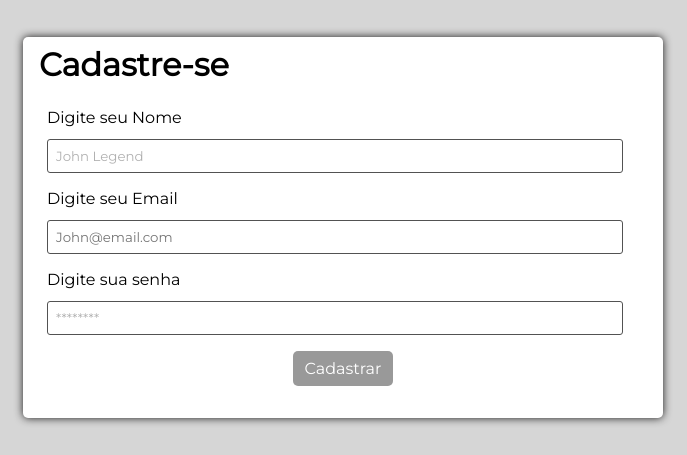
it: Check Login Screen › Check if typing on INPUTs an user already registred show some error
In the field with id "username": point(335, 156) [47, 139, 623, 173], type "Admin"
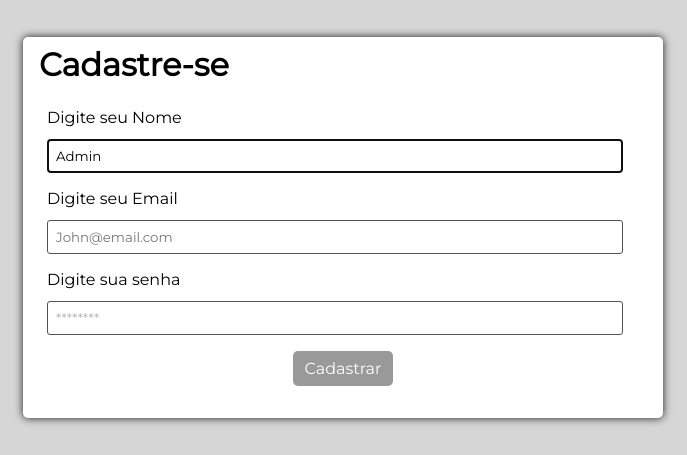
In the field with id "email": point(335, 237) [47, 220, 623, 254], type "admin@admin.com"
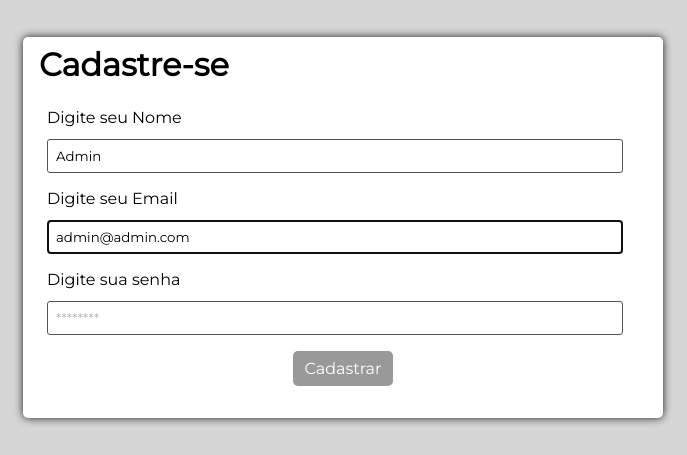
In the password field with placeholder "********": point(335, 318) [47, 301, 623, 335], type "secret_admin"
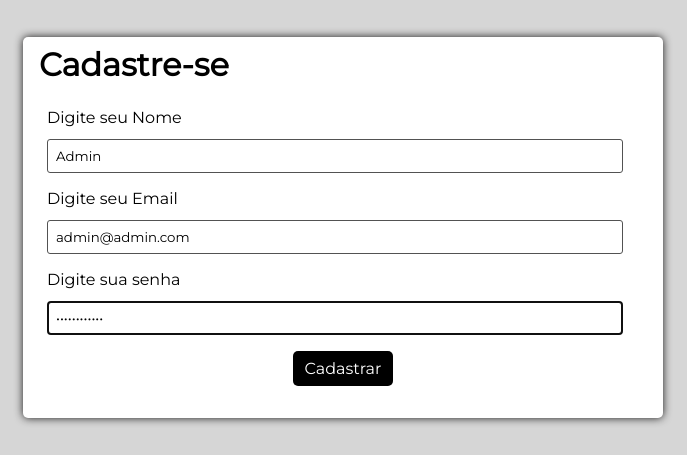
Click the button with class "submit-button": point(343, 369) [293, 351, 393, 386]
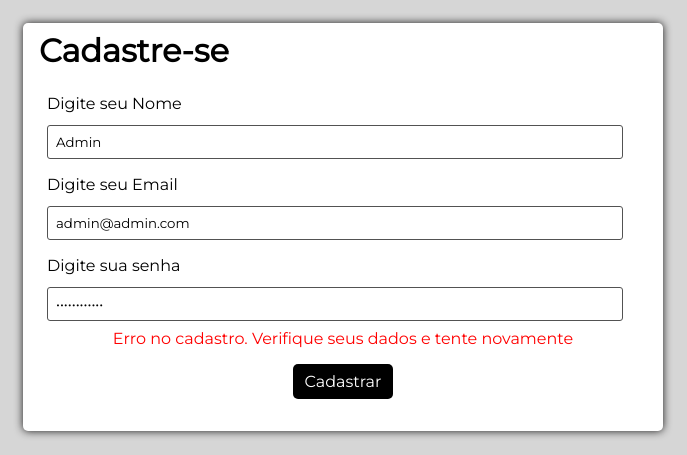
Result: the text "Erro no cadastro. Verifique seus dados e tente novamente" is shown at [113, 329, 573, 348]
